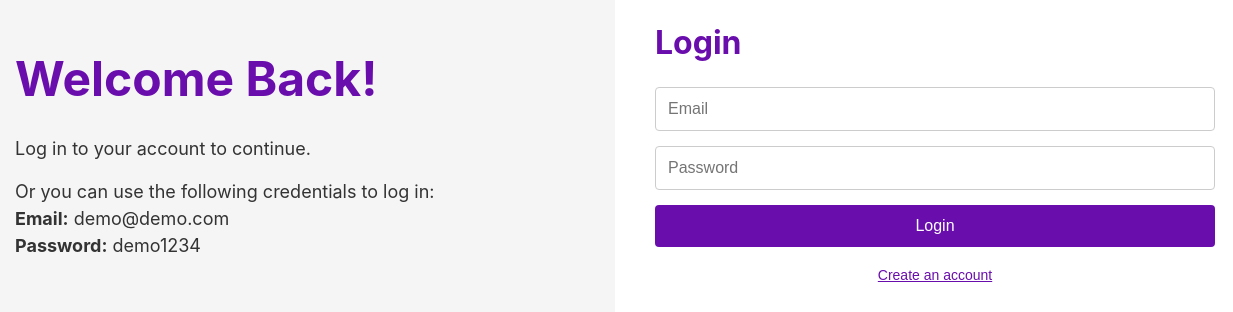
Test: Login Component › shows password validation error when password is invalid
Type "user@example.com" into the field with placeholder "Email" at (935, 109), box [655,87,1215,131]
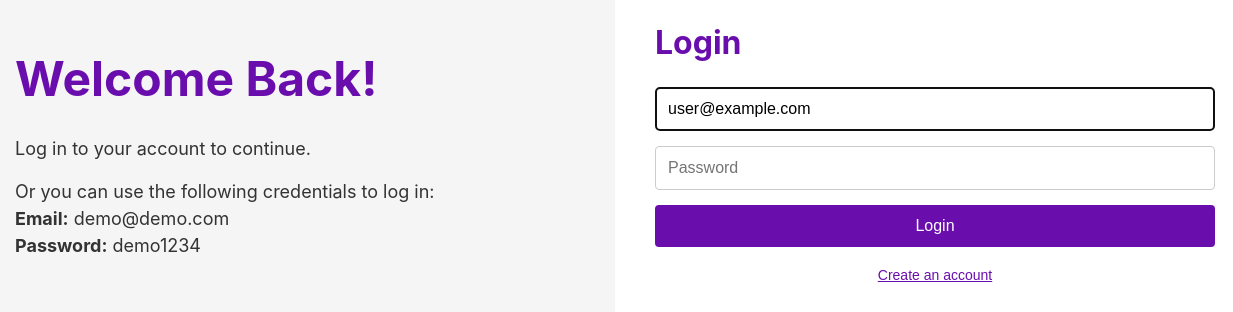
Type "short" into the password field with placeholder "Password" at (935, 168), box [655,146,1215,190]
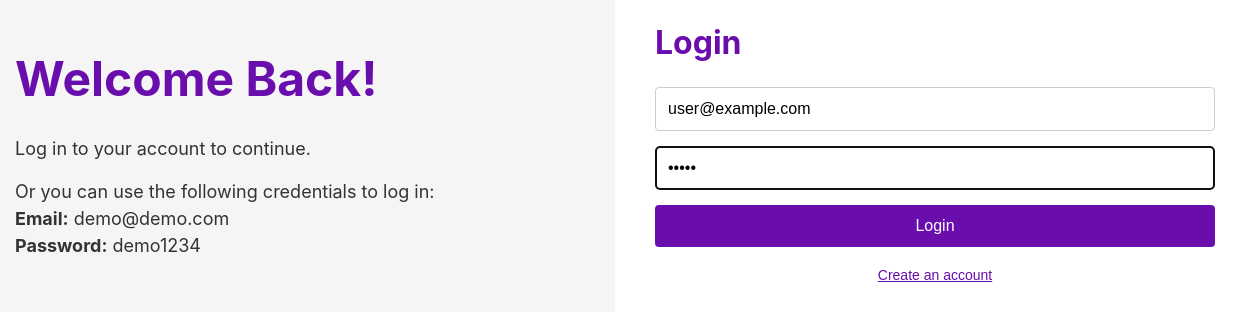
Click the button "Login" at (935, 226), box [655,205,1215,247]
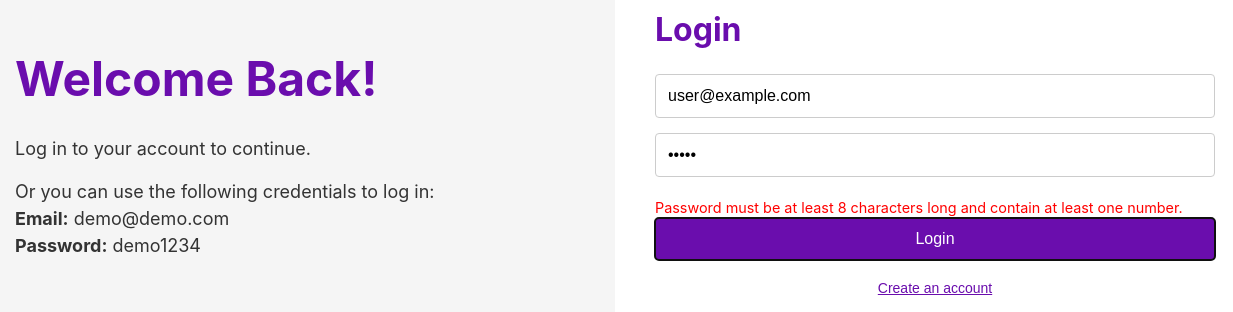
Expected: the text with test id "password-error" reads "Password must be at least 8 characters long and contain at least one number.", [655,199,1183,216]
